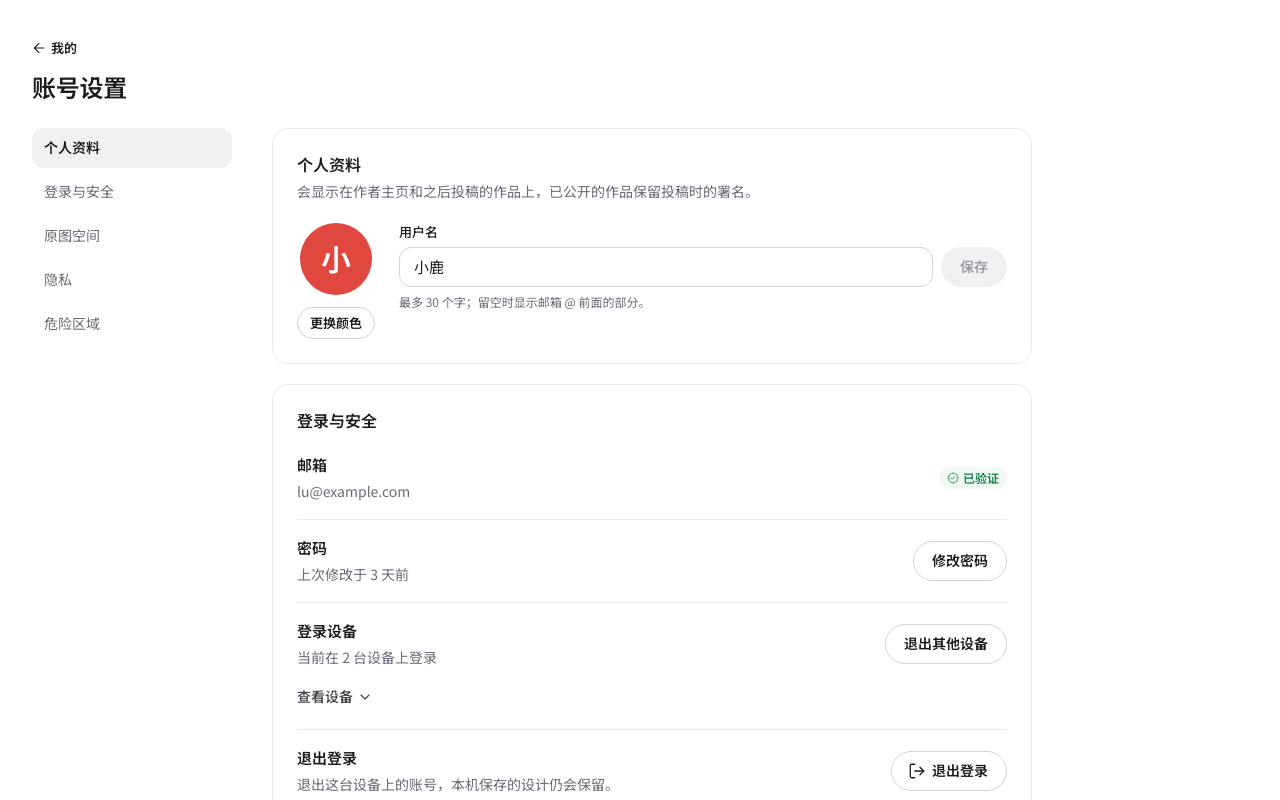
账号设置 › 密码行写上次修改时间；登录设备列出「系统 · 浏览器」
Expected: the text "上次修改于 3 天前" is shown, [297,566,409,583]
Click the heading "查看设备".
click(335, 696)  # box [297,688,373,705]
(page scrolled)
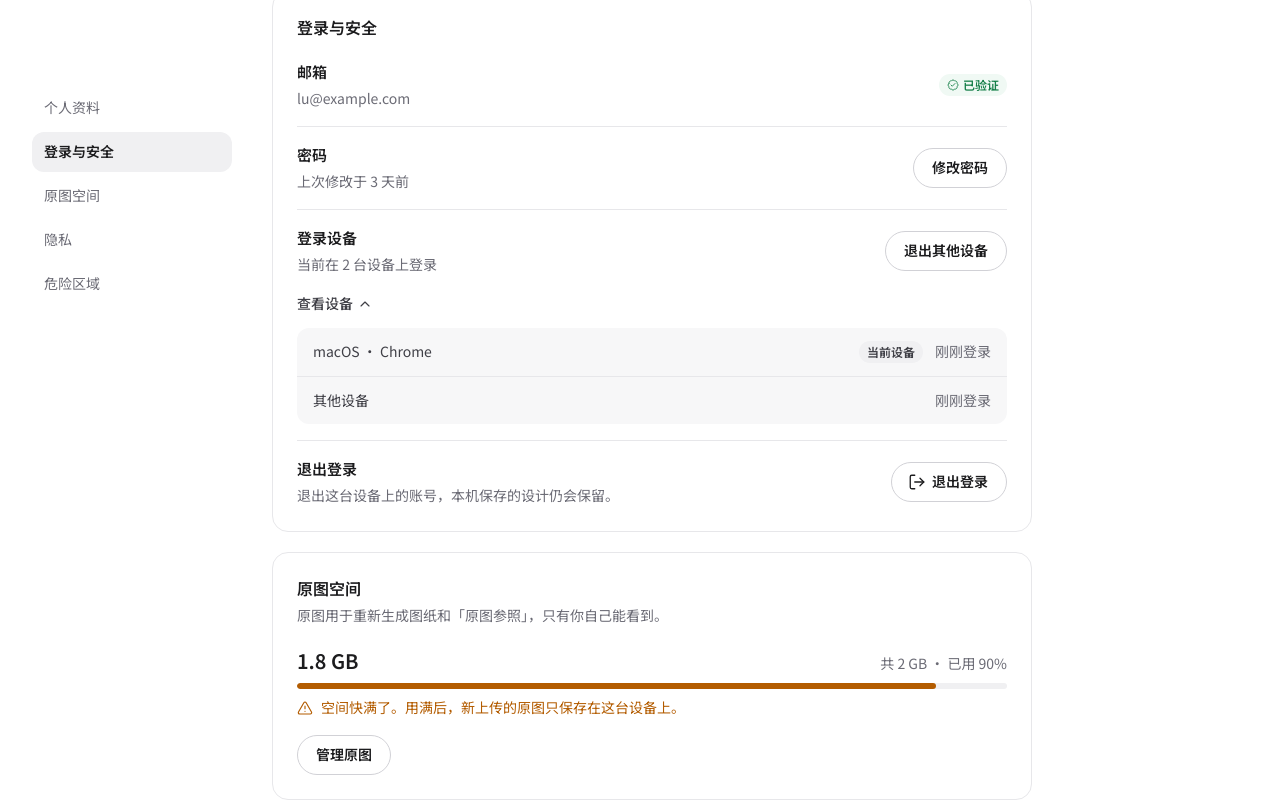
Expected: the text "macOS · Chrome" is shown, [313,343,432,360]
Expected: the text "其他设备" is shown, [313,392,369,408]
